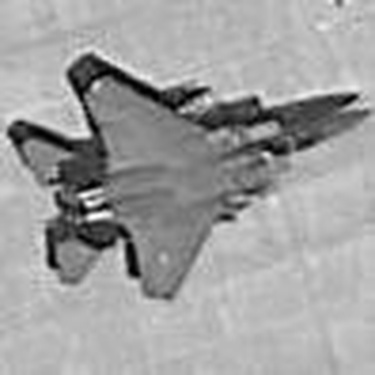airplane: (12, 45, 368, 310)
